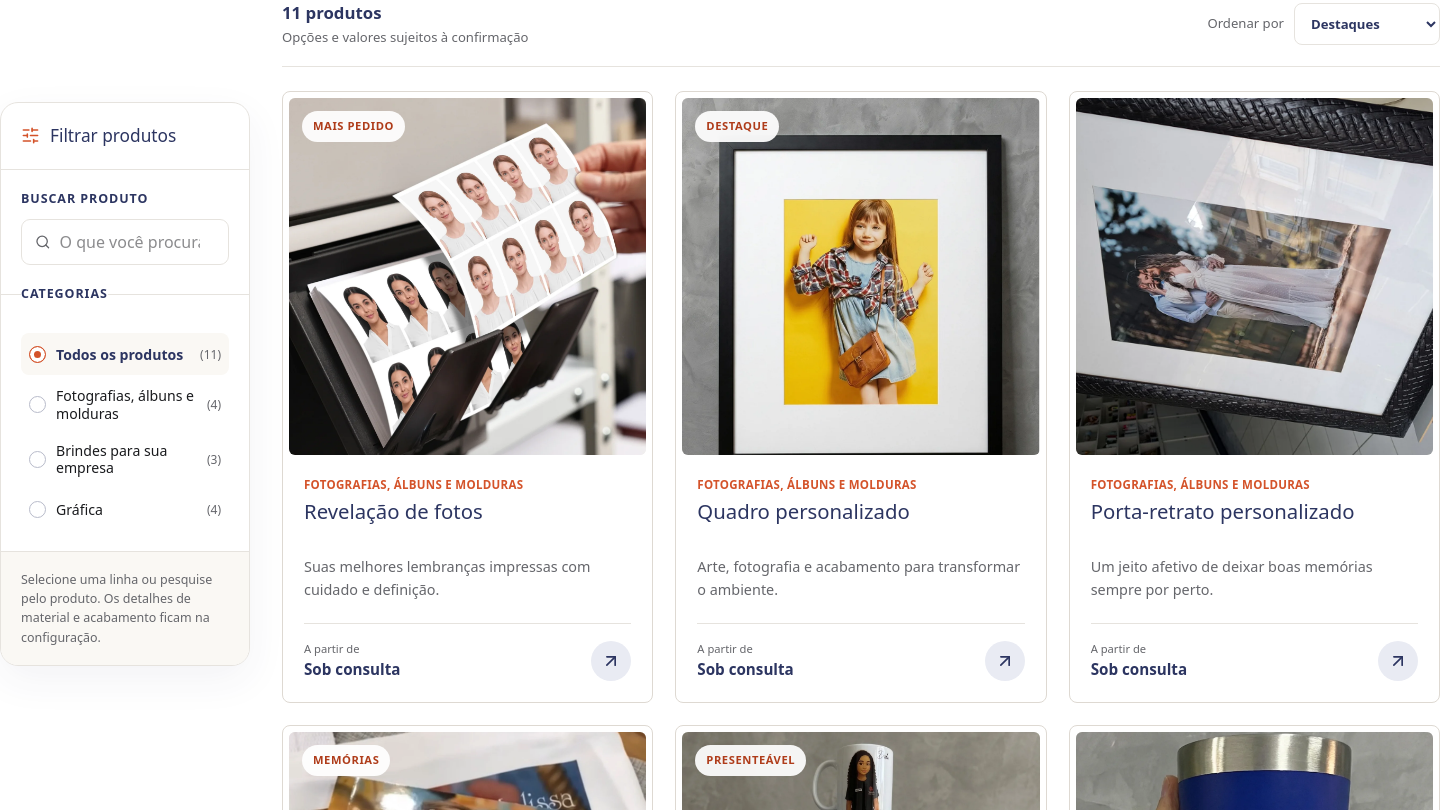
Scenario: CatalogGrid › filters products by search and category
expect the element named "Filtros do catálogo" is shown: met, box [0, 102, 250, 666]
expect the text "11 produtos" is shown: met, box [282, 1, 382, 24]
Type "caneca" into the search field named "buscar produtos" at (137, 242), box [60, 230, 215, 254]
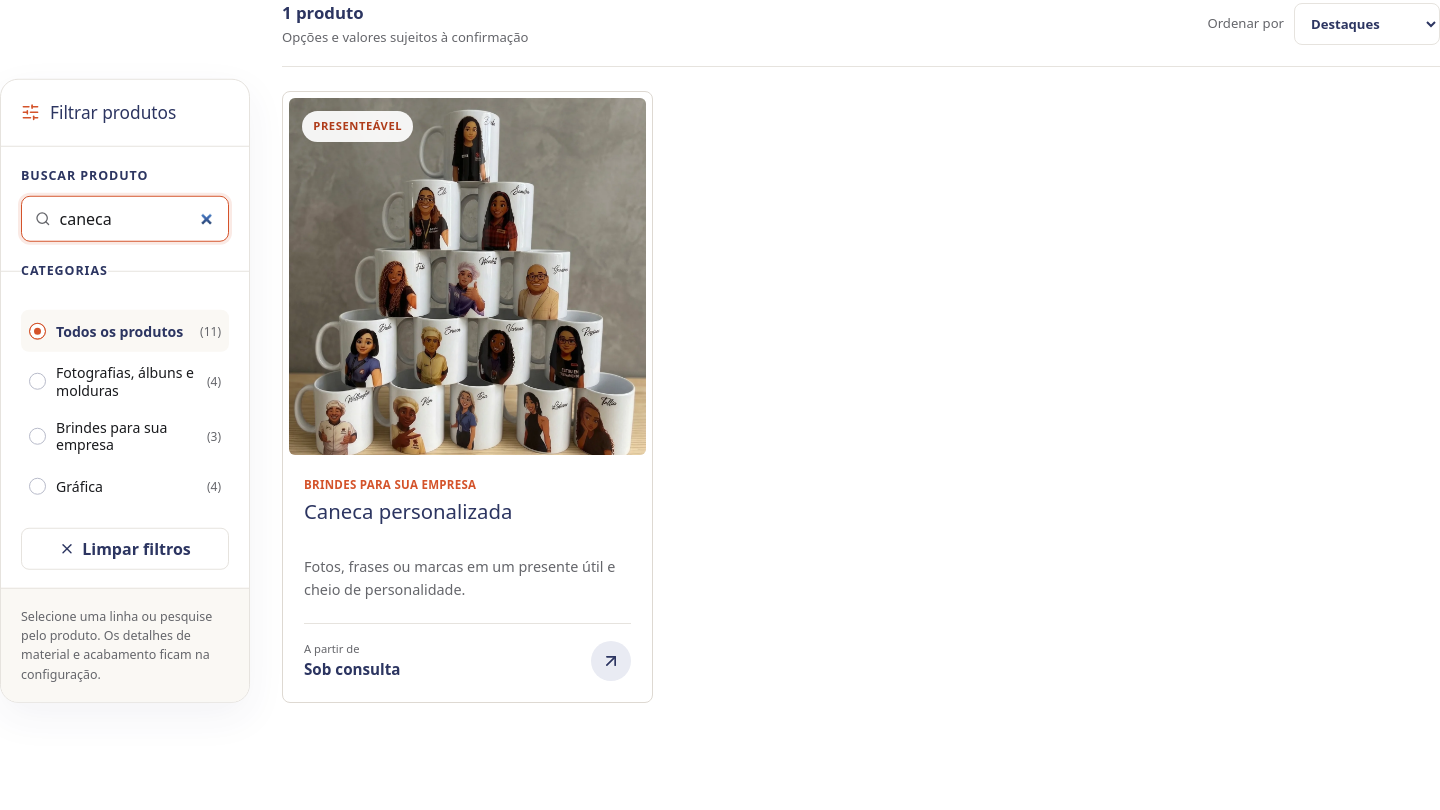
expect the heading "Caneca personalizada" is shown: met, box [304, 498, 512, 526]
Clear the search field named "buscar produtos" at (137, 218), box [60, 206, 215, 230]
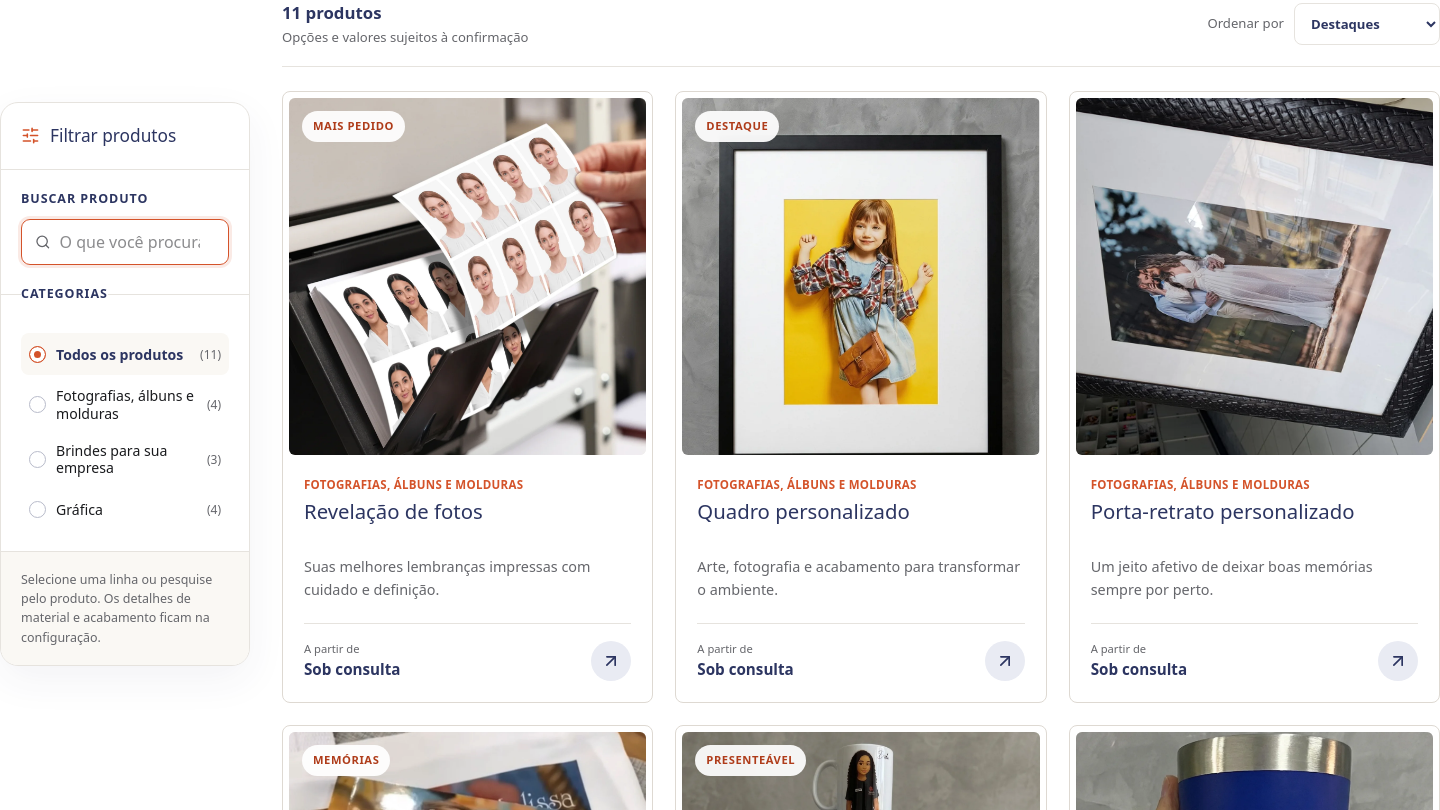
Click the radio button labelled "Brindes para sua empresa (3)" at (125, 459), box [21, 434, 229, 484]
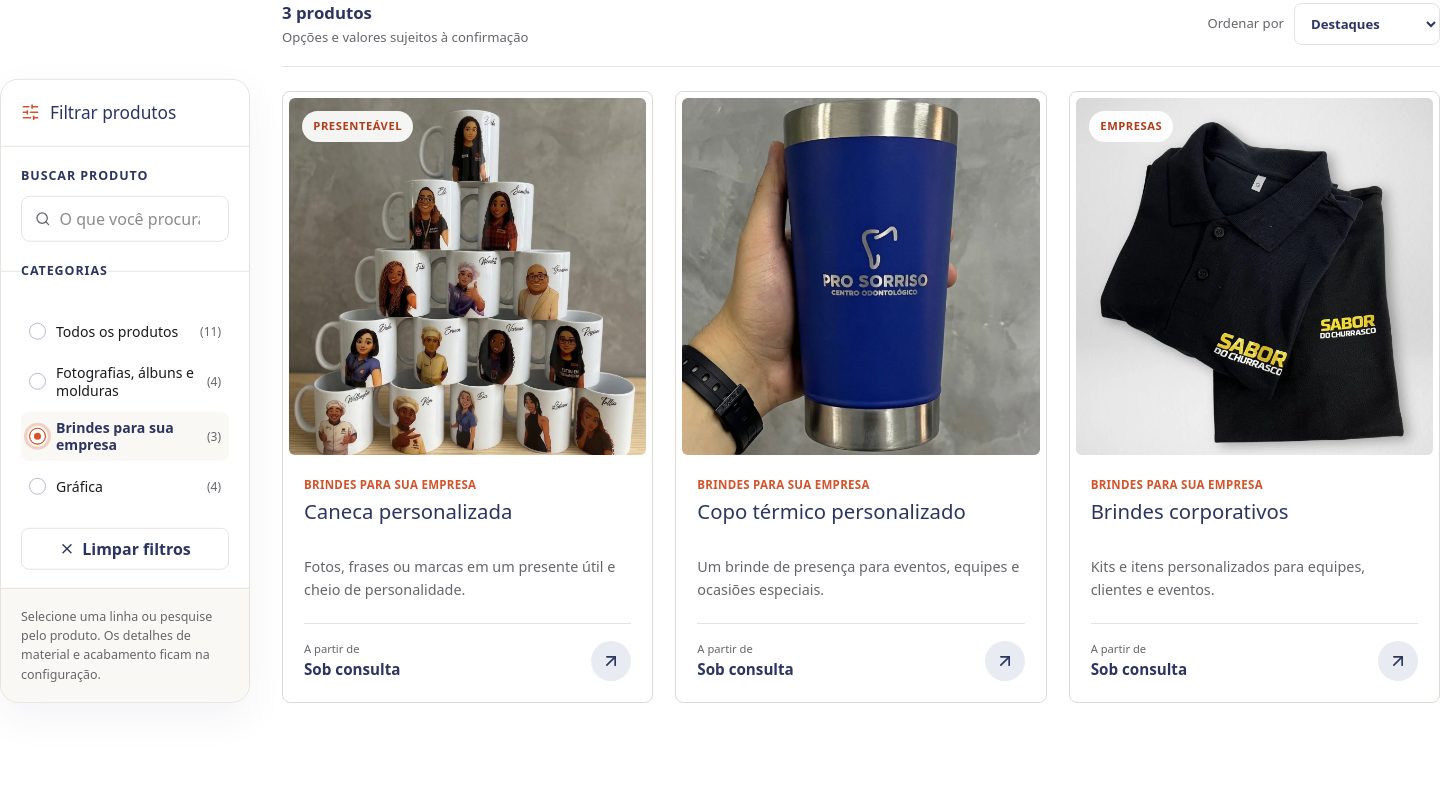
expect the heading "Caneca personalizada" is shown: met, box [304, 498, 512, 526]
expect the heading "Brindes corporativos" is shown: met, box [1091, 498, 1289, 526]
expect the text "3 produtos" is shown: met, box [282, 1, 372, 24]
